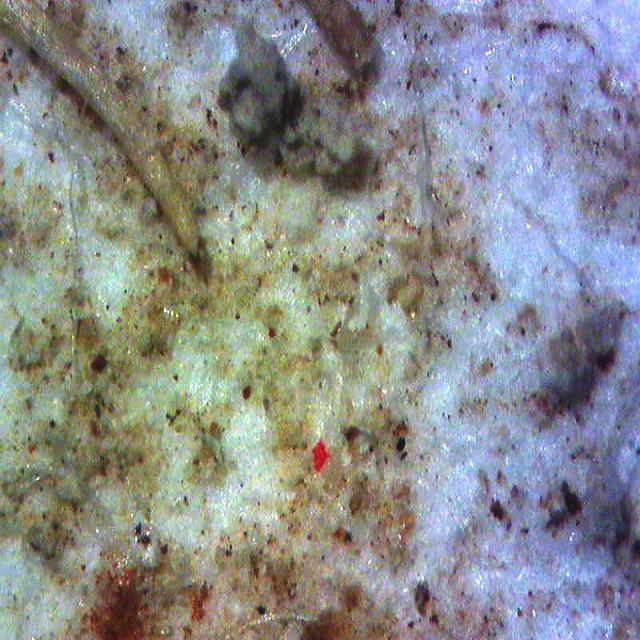microplastic: (312, 439, 329, 473)
